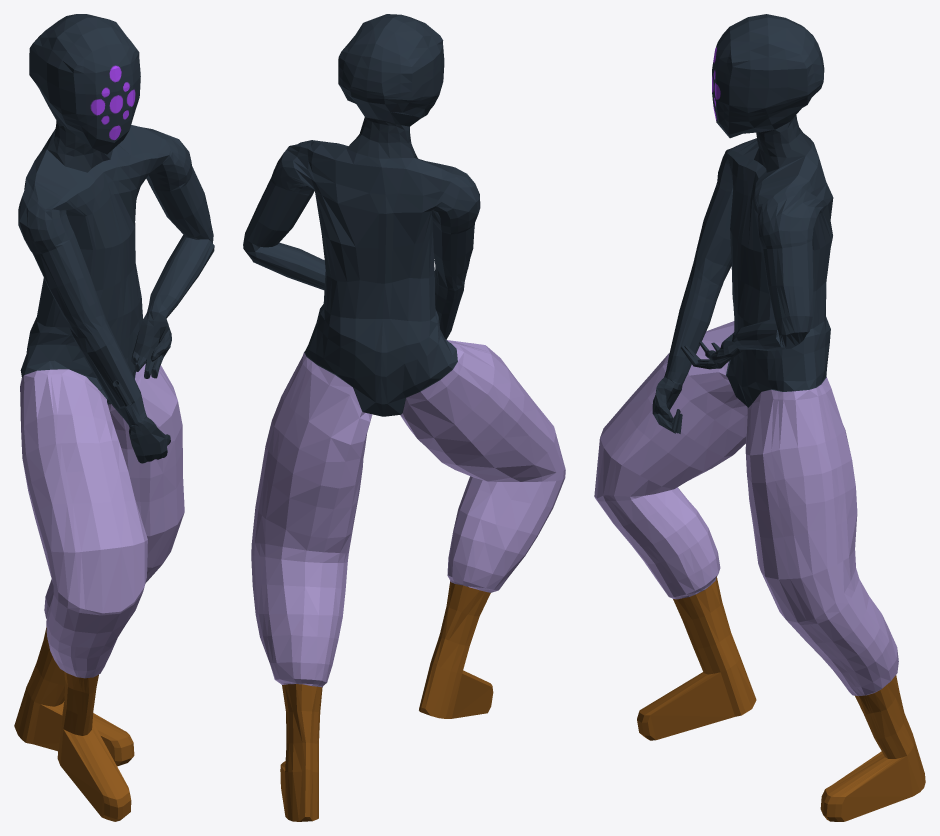
The model's file is Oracle_WB_000022.obj.
3 views of the same model, side by side, from view 1: azimuth 30°, elevation 25°; view 2: azimuth 150°, elevation 25°; view 3: azimuth 270°, elevation 25° (orthographic). The views are drawn at different scales.
Visible parts, largest first — view 1: Cube; view 2: Cube; view 3: Cube.
Boxes of the visible parts, x1,y1,x2,y2 form: Cube: [14, 14, 214, 821]; Cube: [243, 14, 565, 821]; Cube: [594, 14, 925, 821].
Bounding box in the file's own units: 1.22 × 3.82 × 1.49.
